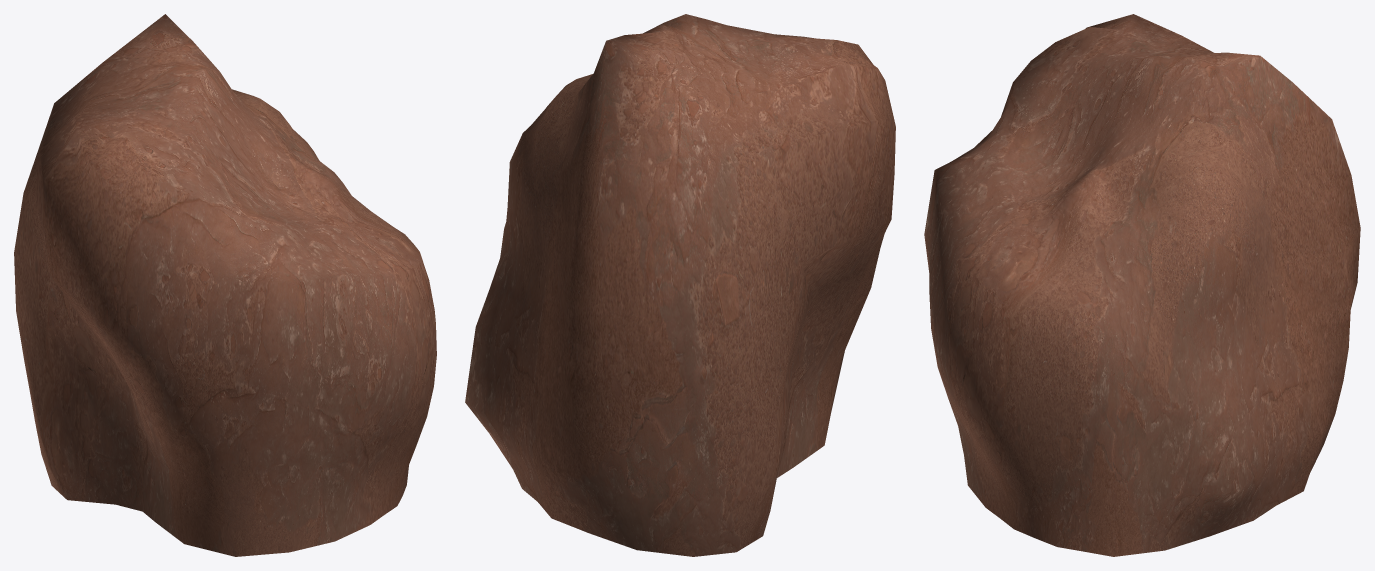
The model's file is Rock_03.glb.
3 views of the same model, side by side, from view 1: azimuth 30°, elevation 25°; view 2: azimuth 150°, elevation 25°; view 3: azimuth 270°, elevation 25° (orthographic). The views are drawn at different scales.
Visible parts, largest first — view 1: Rock_03; view 2: Rock_03; view 3: Rock_03.
Part boxes in pixels (box(x1,y1,x2,y2)): Rock_03: box(14, 14, 436, 556); Rock_03: box(465, 14, 895, 556); Rock_03: box(924, 14, 1360, 556).
Size of the model in its own units: 2.96 by 3.59 by 3.25.
Materials: 1 (1 with a texture image).
